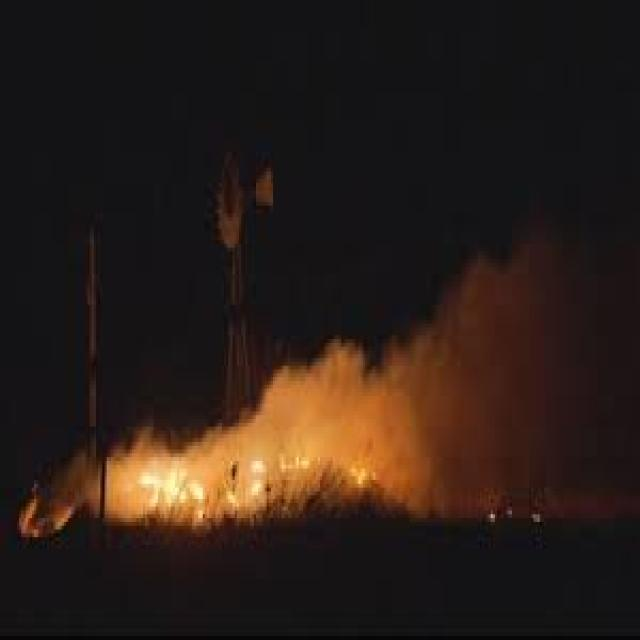Fire: (126, 447, 376, 515)
Smoke: (26, 229, 640, 540)
